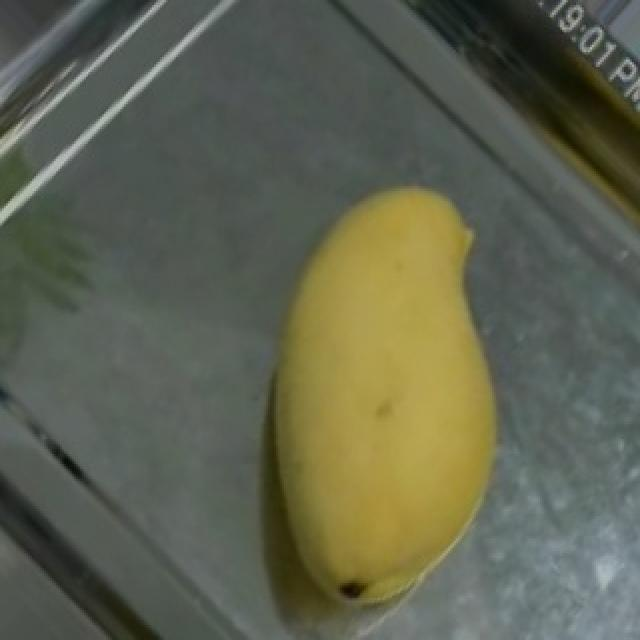fruit: (242, 134, 574, 566)
